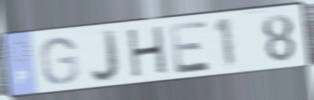1: (213, 16, 237, 72)
8: (260, 11, 298, 65)
E: (167, 18, 214, 76)
G: (39, 35, 81, 87)
H: (126, 23, 169, 80)
J: (87, 28, 122, 85)
